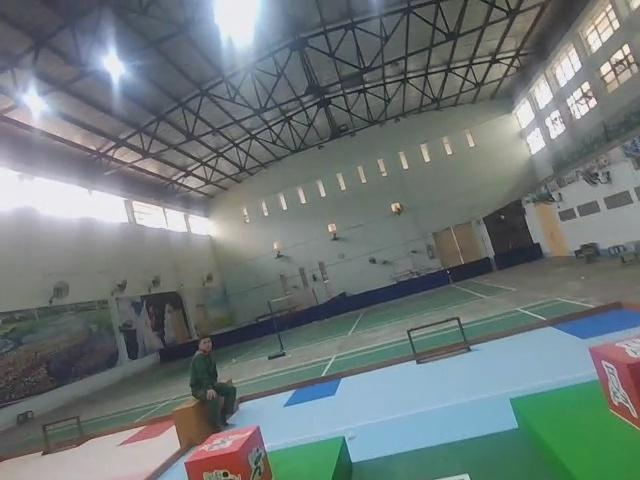R1: (182, 422, 275, 480)
R2 Real: (586, 332, 640, 434)
